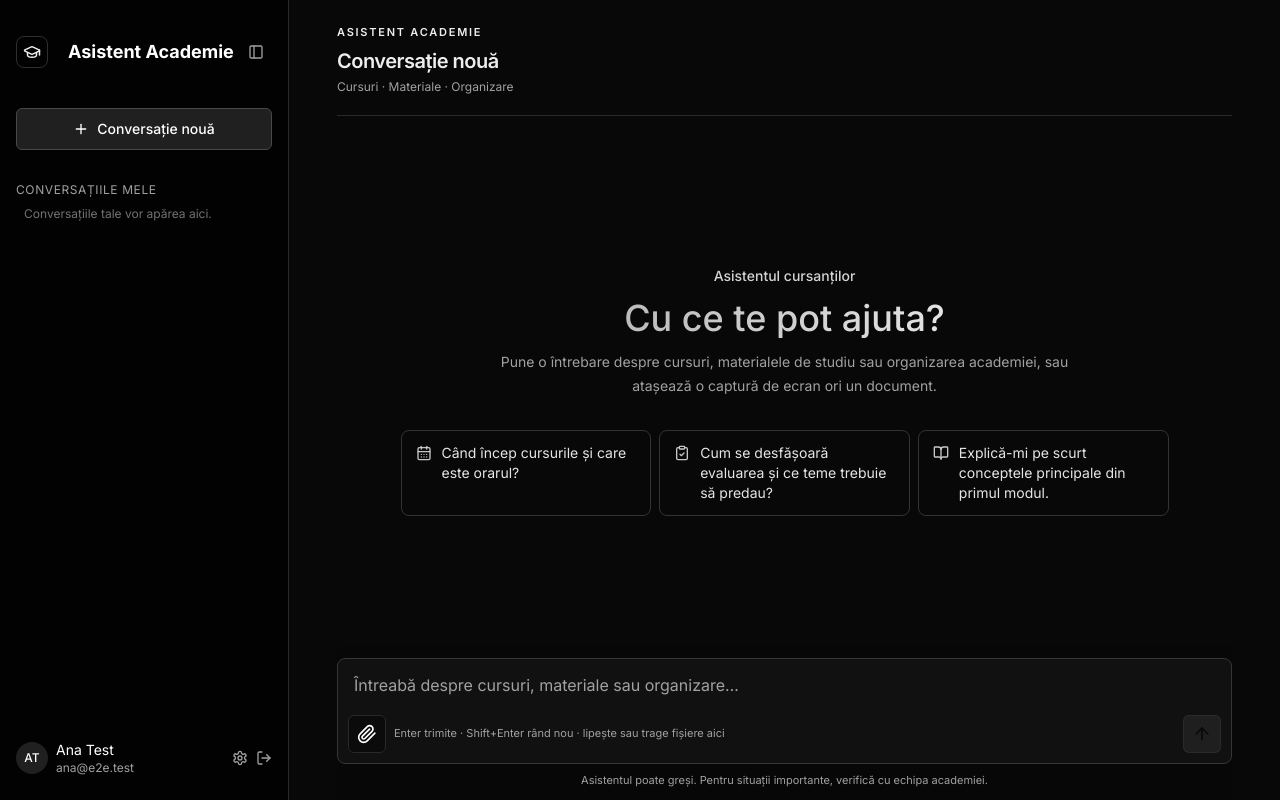
Test: CHAT-16 Failures are visible › CHAT-16 refused (S2): a request the API refuses shows under the question
Click the field named "Întrebarea ta" at point(784, 686), box [338,658,1231,714]
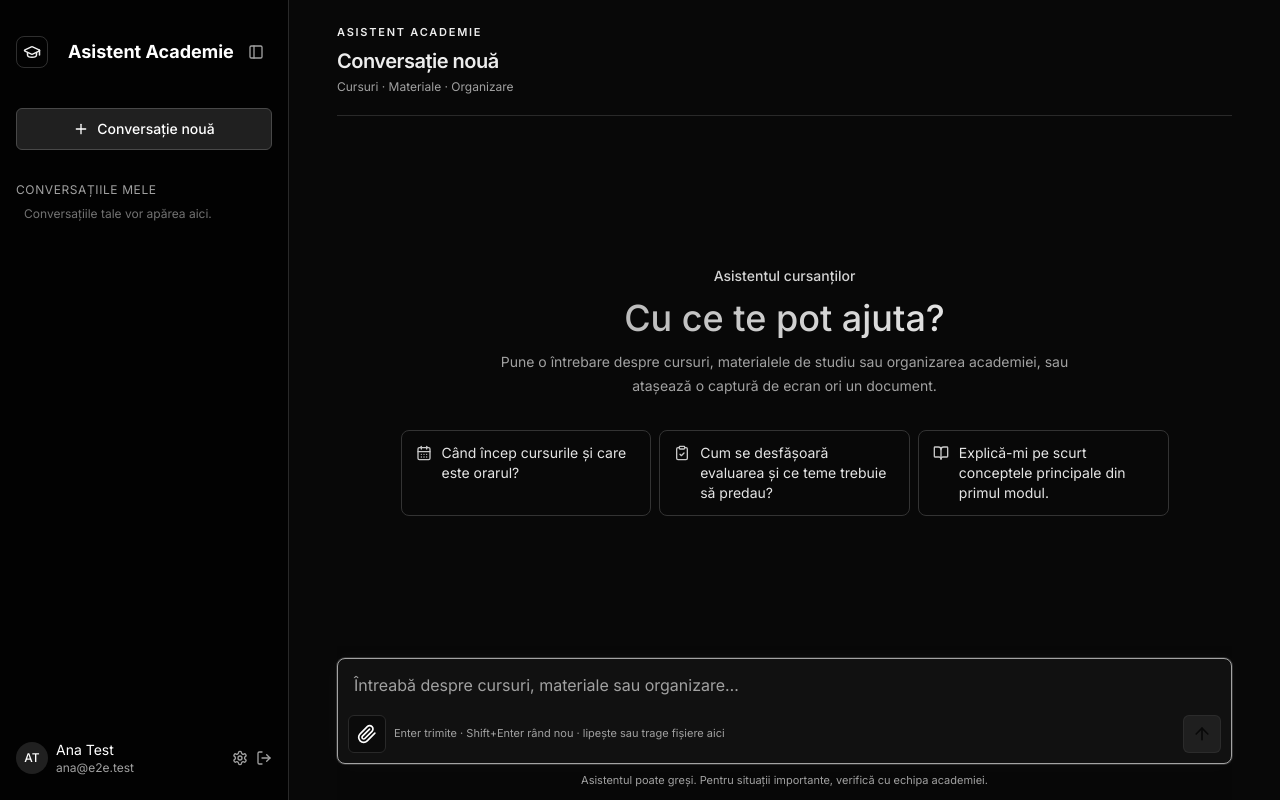
Type keys "Ce prevede contractul de muncă?{Enter}"
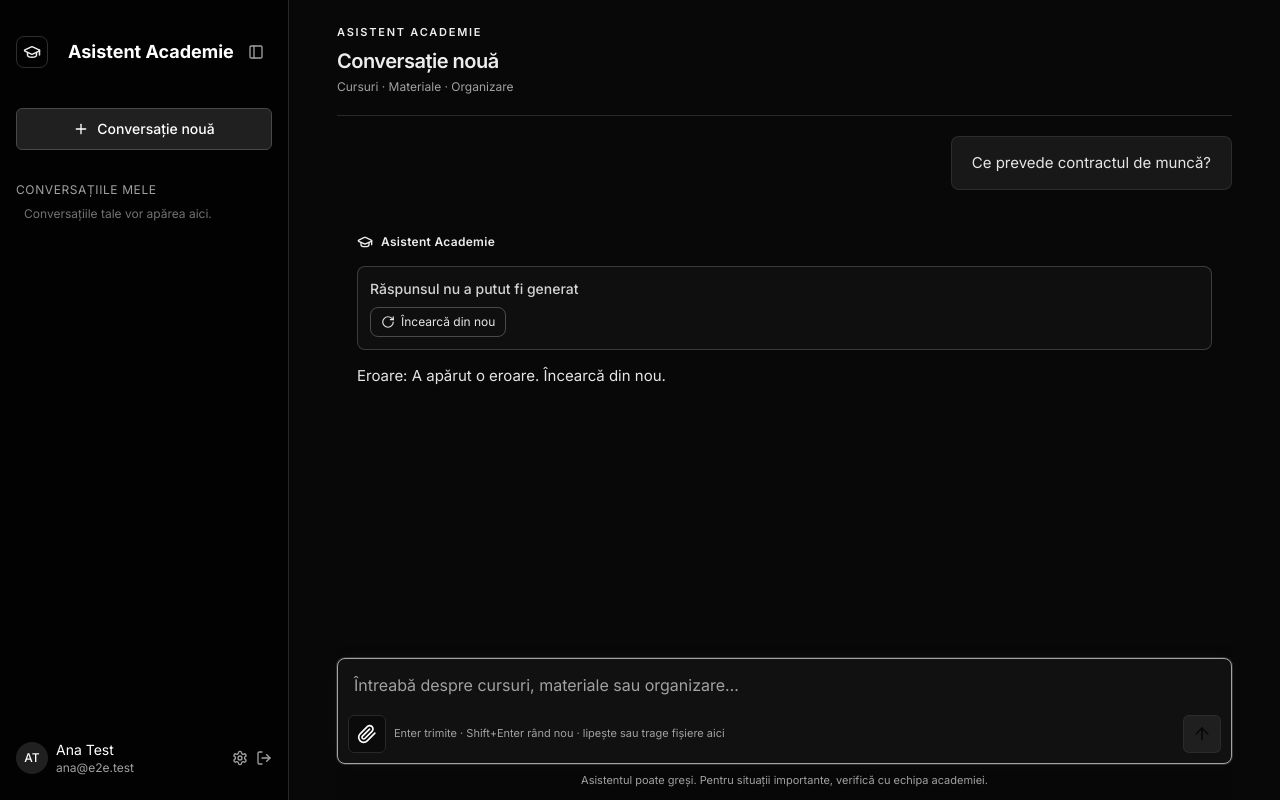
Now the text "Răspunsul nu a putut fi generat" is shown, box [370,280,578,296]
Now the button "Încearcă din nou" is shown, box [370,306,506,336]
